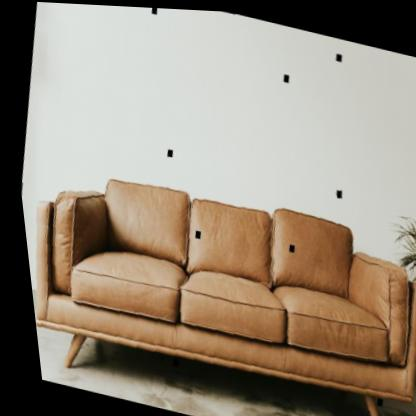Sofa: (13, 147, 416, 410)
